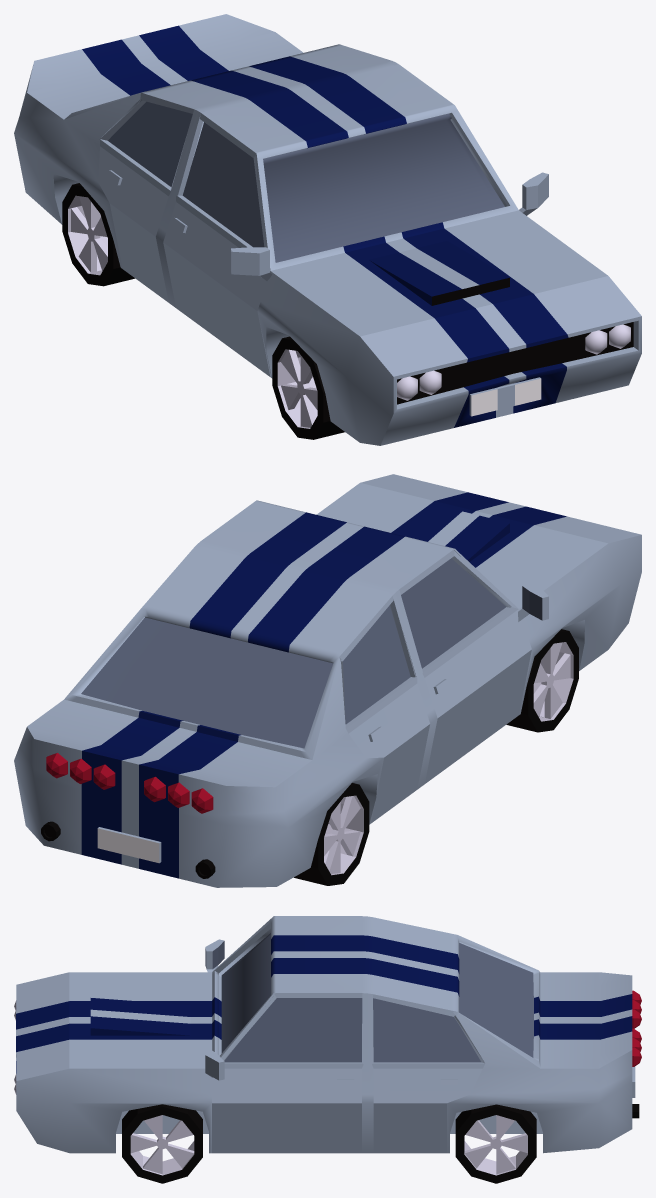
The model's file is car1.fbx.
The picture shows the model from 3 angles, top to bottom: view 1: azimuth 30°, elevation 25°; view 2: azimuth 150°, elevation 25°; view 3: azimuth 270°, elevation 25°; orthographic projection. The views are drawn at different scales.
Visible parts, largest first — view 1: Carcas, Doors, Engine, Muscle 2 wheel front right, Muscle 2 wheel rear right; view 2: Carcas, Doors, Engine, Muscle 2 wheel front right, Muscle 2 wheel rear right, vihlop; view 3: Carcas, Doors, Engine, Muscle 2 wheel front left, Muscle 2 wheel rear left, vihlop.
Part boxes in pixels (left/top/right/bottom): Carcas: left=14, top=14, right=641, bottom=445; Doors: left=98, top=92, right=548, bottom=376; Engine: left=271, top=210, right=641, bottom=376; Muscle 2 wheel front right: left=272, top=336, right=344, bottom=439; Muscle 2 wheel rear right: left=62, top=183, right=134, bottom=286; Carcas: left=14, top=500, right=641, bottom=887; Doors: left=81, top=549, right=548, bottom=823; Engine: left=316, top=474, right=641, bottom=608; Muscle 2 wheel front right: left=506, top=629, right=578, bottom=732; Muscle 2 wheel rear right: left=294, top=783, right=369, bottom=885; vihlop: left=41, top=753, right=215, bottom=878; Carcas: left=14, top=916, right=635, bottom=1153; Doors: left=205, top=928, right=533, bottom=1153; Engine: left=16, top=972, right=211, bottom=1080; Muscle 2 wheel front left: left=122, top=1104, right=202, bottom=1183; Muscle 2 wheel rear left: left=455, top=1104, right=536, bottom=1183; vihlop: left=632, top=990, right=641, bottom=1118.
Bounding box in the file's own units: 2.81 × 1.91 × 6.06.
